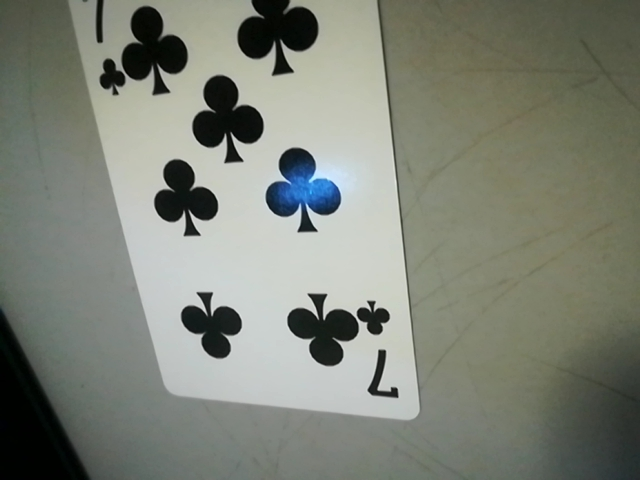mh 7: (354, 294, 411, 411)
